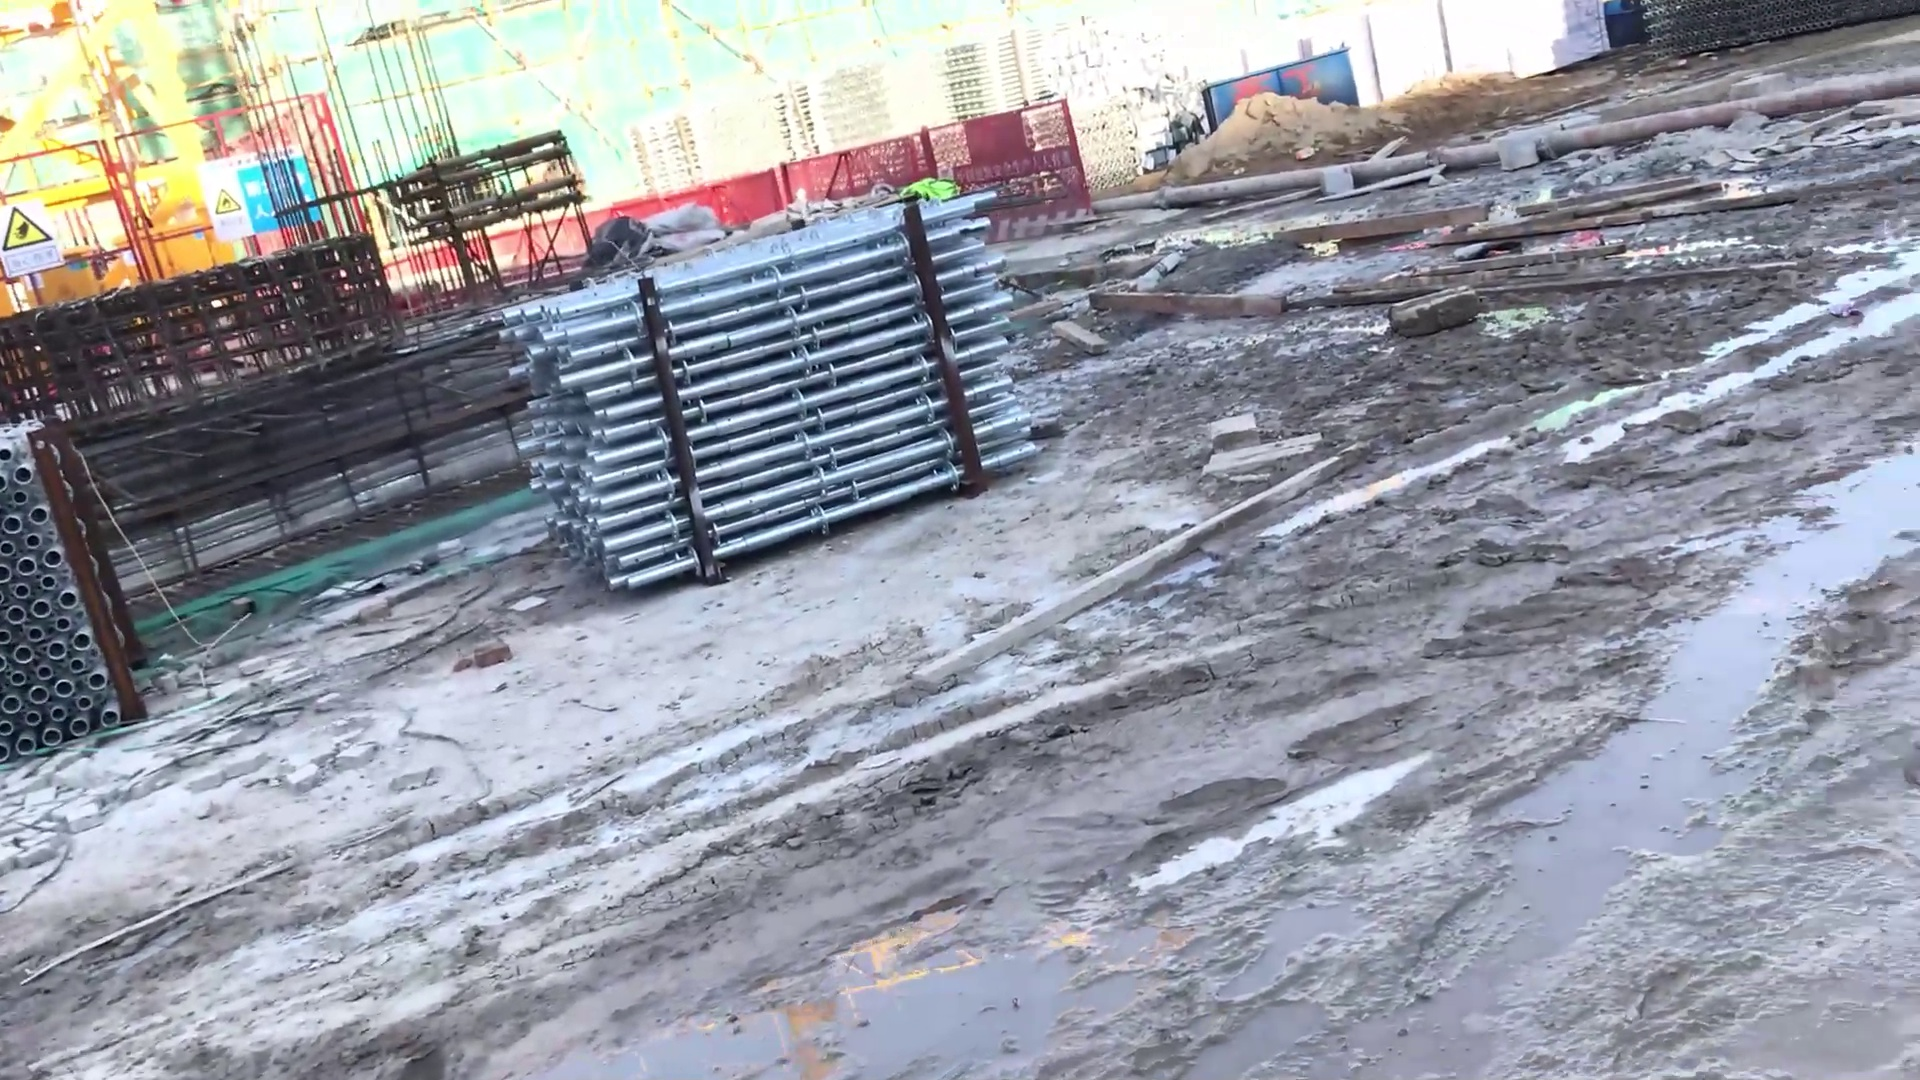fence: (1, 91, 376, 309), (795, 109, 1060, 208)
hopper: (1178, 46, 1393, 170)
scaffold: (522, 211, 1047, 585), (1, 429, 148, 727)
slogan: (193, 142, 280, 247), (3, 203, 88, 284)
